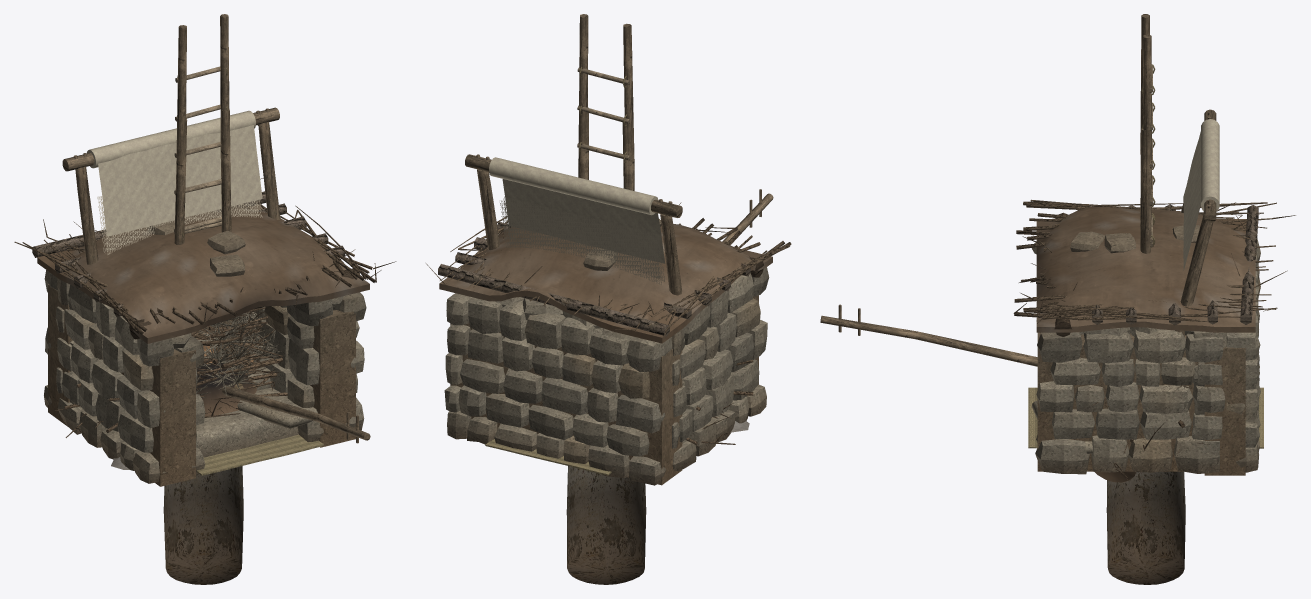
Rendered from village_props.glb.
The picture shows the model from 3 angles, left to right: view 1: azimuth 30°, elevation 25°; view 2: azimuth 150°, elevation 25°; view 3: azimuth 270°, elevation 25°; orthographic projection.
Visible parts, largest first — view 1: tabun_shelter_lod0, loom_lod0, cistern_mouth_lod0, brush_stack_lod0, ladder_b_lod0, mat_reed_lod0, ard_lod0, ladder_a_lod0, tabun_lod0; view 2: tabun_shelter_lod0, loom_lod0, cistern_mouth_lod0, ladder_b_lod0, mat_reed_lod0, ard_lod0, ladder_a_lod0; view 3: tabun_shelter_lod0, cistern_mouth_lod0, loom_lod0, ladder_b_lod0, ard_lod0, mat_reed_lod0, ladder_a_lod0.
Boxes of the visible parts, left/top/right/bottom form: tabun_shelter_lod0: left=14, top=178, right=396, bottom=486; loom_lod0: left=62, top=107, right=280, bottom=361; cistern_mouth_lod0: left=163, top=388, right=317, bottom=584; brush_stack_lod0: left=55, top=307, right=287, bottom=437; ladder_b_lod0: left=174, top=14, right=233, bottom=350; mat_reed_lod0: left=196, top=434, right=323, bottom=475; ard_lod0: left=222, top=385, right=370, bottom=443; ladder_a_lod0: left=174, top=109, right=230, bottom=352; tabun_lod0: left=111, top=353, right=256, bottom=469; tabun_shelter_lod0: left=426, top=202, right=791, bottom=485; loom_lod0: left=465, top=154, right=682, bottom=295; cistern_mouth_lod0: left=566, top=466, right=646, bottom=584; ladder_b_lod0: left=577, top=14, right=634, bottom=190; mat_reed_lod0: left=485, top=439, right=611, bottom=475; ard_lod0: left=722, top=189, right=773, bottom=245; ladder_a_lod0: left=586, top=107, right=628, bottom=189; tabun_shelter_lod0: left=1013, top=199, right=1295, bottom=475; cistern_mouth_lod0: left=1032, top=400, right=1185, bottom=584; loom_lod0: left=1175, top=109, right=1219, bottom=336; ladder_b_lod0: left=1140, top=14, right=1155, bottom=253; ard_lod0: left=820, top=304, right=1037, bottom=366; mat_reed_lod0: left=1028, top=387, right=1263, bottom=448; ladder_a_lod0: left=1140, top=109, right=1155, bottom=251.
Size of what is drawn, in the model's own units: 2.44 by 4.72 by 3.74.
11 materials, 10 textured.
